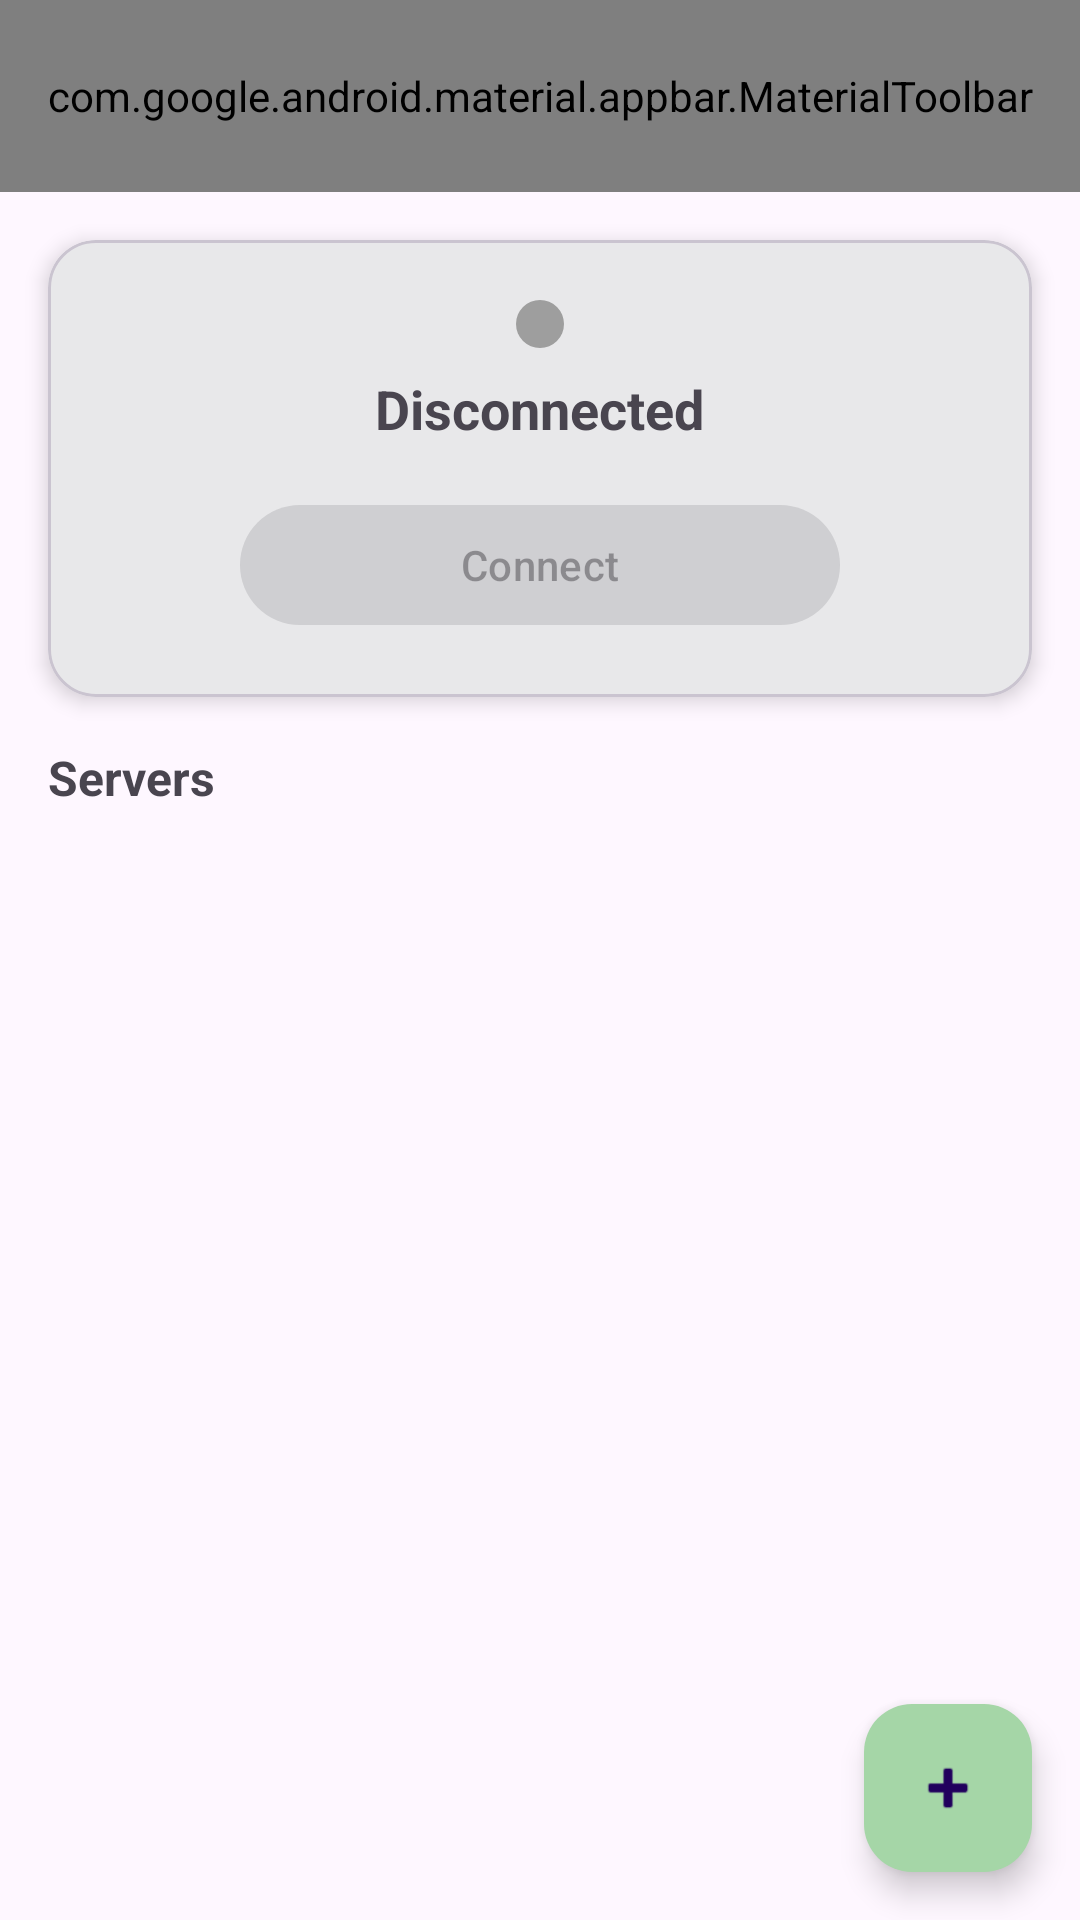

Screen size 1080px×1920px. Icon name, then its box in pixels as region(x1, y1, x2, y2):
Add Server: region(864, 1704, 1032, 1872)
